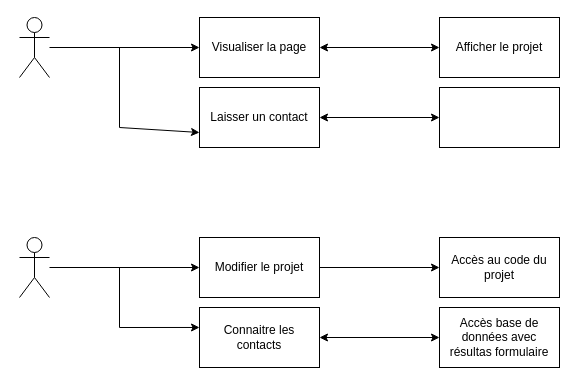
This 577x385 diagram has some shape labels left out. The shapes that lost their labels are listed below. From the top down, each one's centre as x and y in pixels, then its label:
At point (34, 47): "User".
At point (499, 117): "Formulaire de mail".
At point (34, 267): "Admin".
